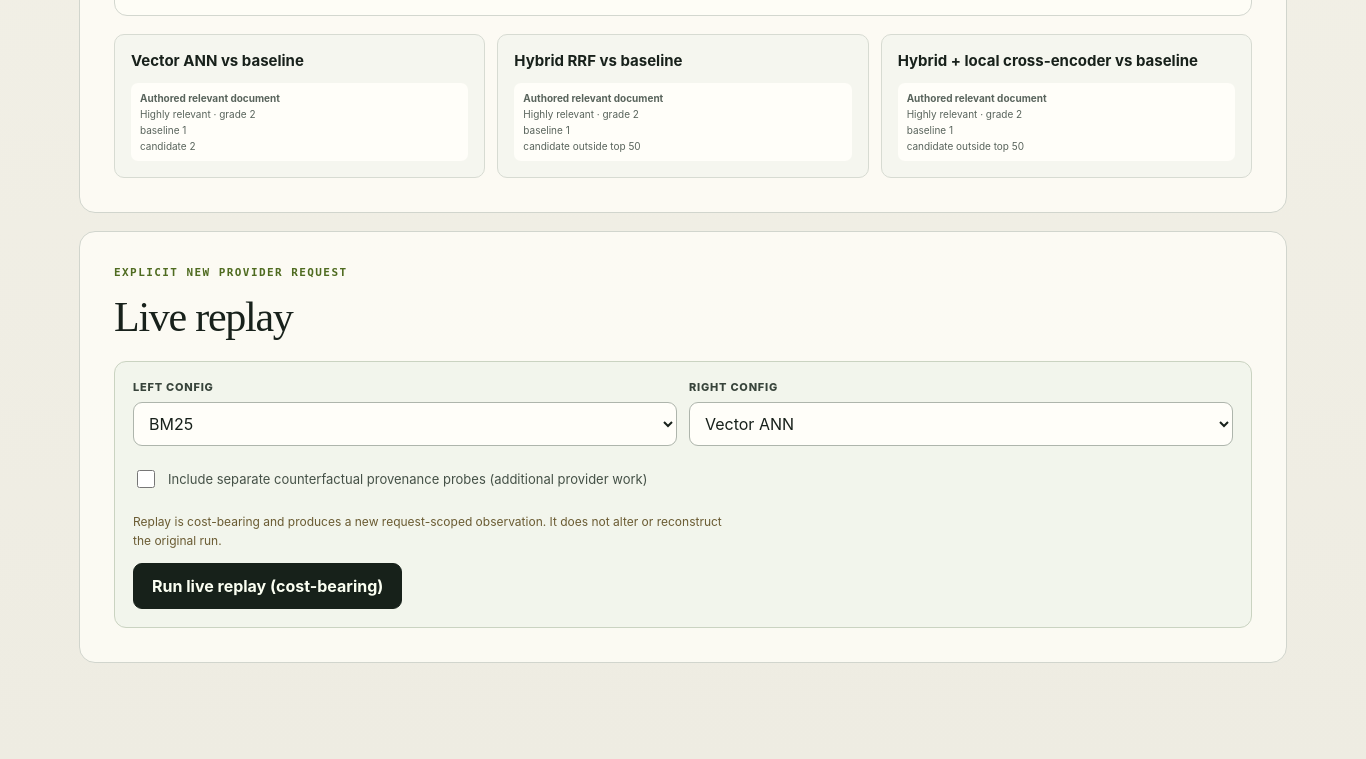
Test case: QueryDetailPage › keeps stored evidence visible when namespace replay fails and retries explicitly
(page scrolled)
What coordinates should you click on to do the following:
click the button "Run live replay (cost-bearing)"
I would click on:
 (268, 586)
Its box is [133,563,402,609].
(page scrolled)
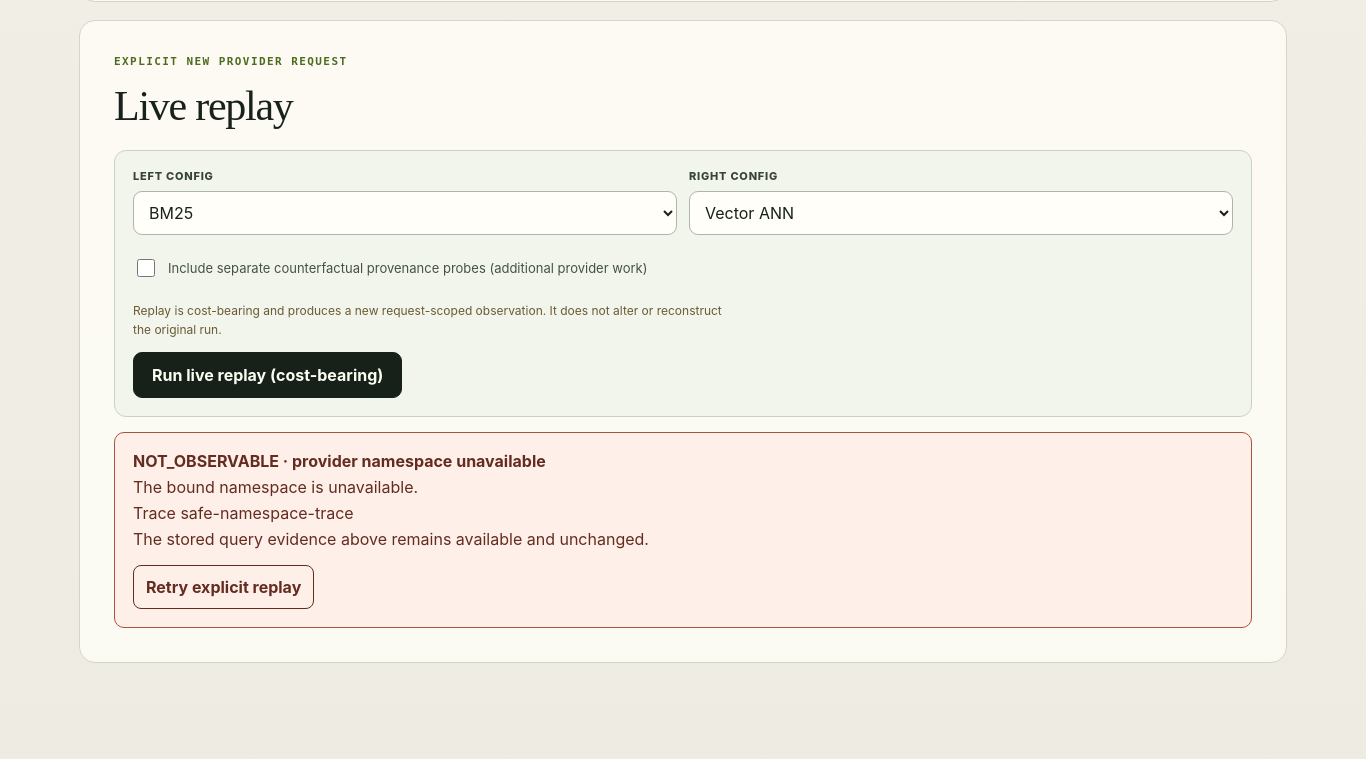
Now the text "NOT_OBSERVABLE · provider namespace unavailable" is shown, box [133,451,546,471]
What coordinates should you click on to do the following:
click the button "Retry explicit replay"
I would click on:
 (224, 587)
Its box is [133,565,314,609].
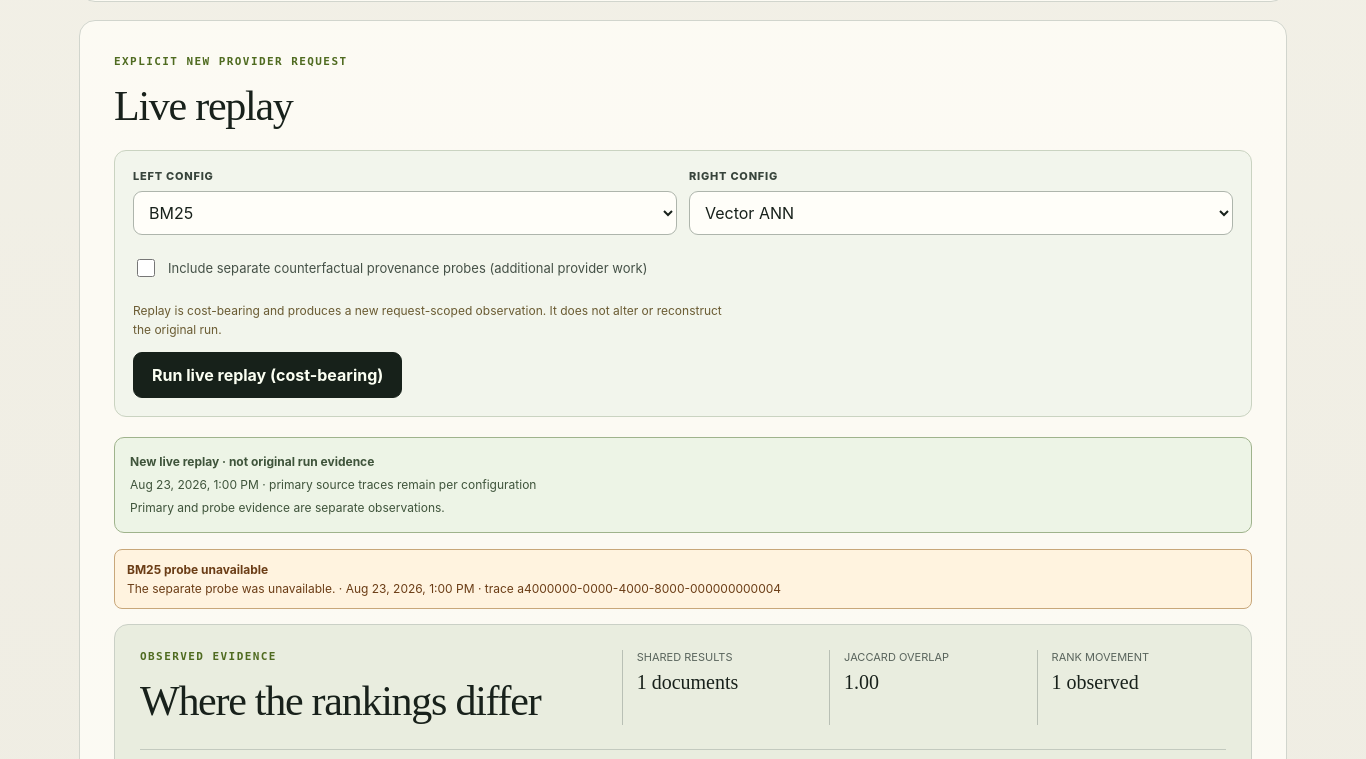
Now the text "New live replay · not original run evidence" is shown, box [130,454,374,469]
